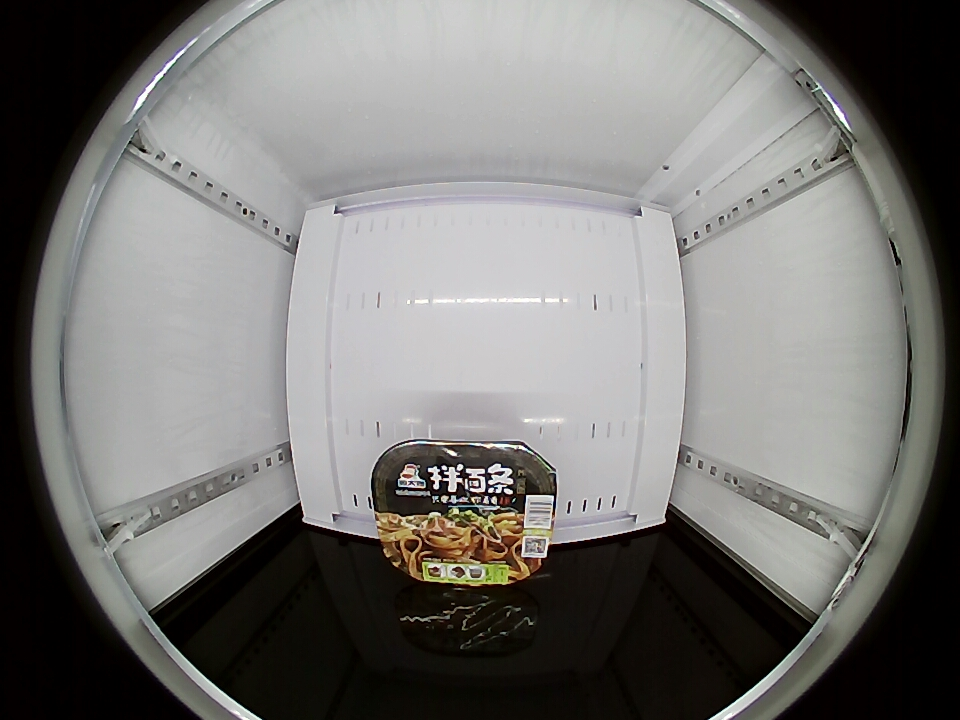gudasao: (371, 439, 557, 587)
